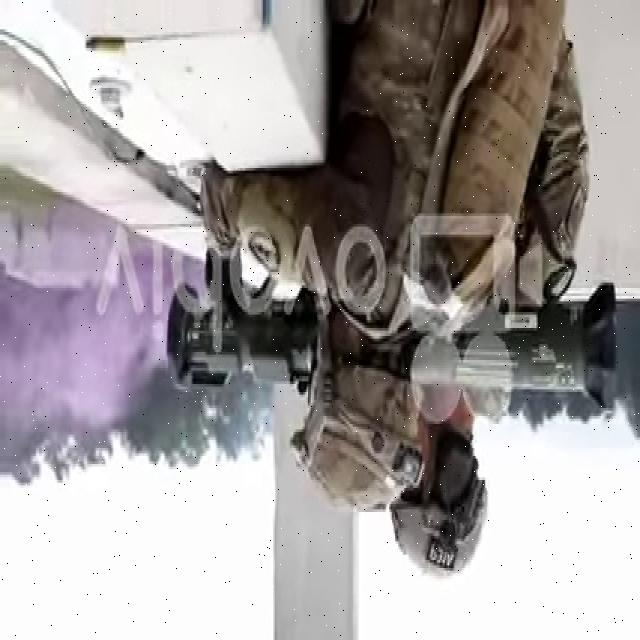bazooka: (161, 271, 623, 422)
